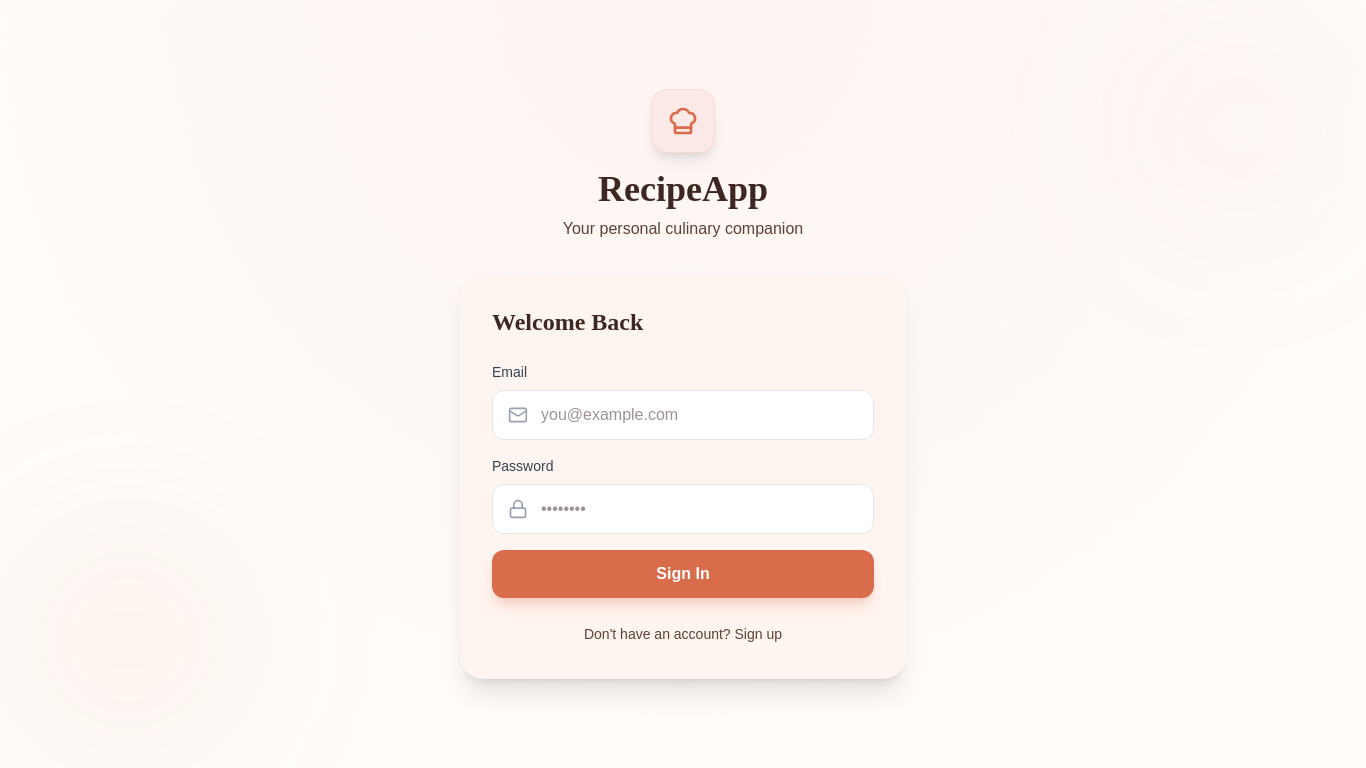
AuthForm › should toggle to sign up form
Click the button "Don't have an account? Sign up".
click(683, 634)  # box [584,624,782,644]
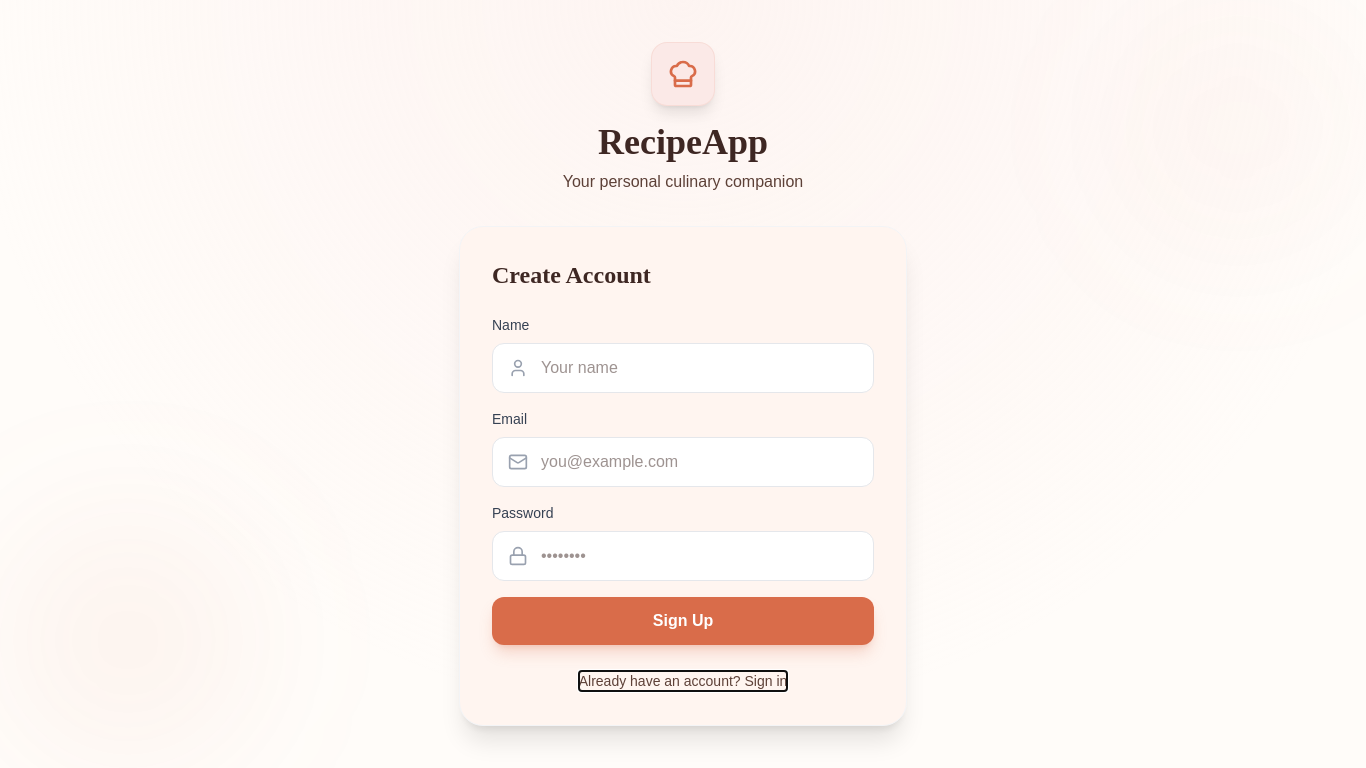
expect the heading "Create Account" is shown: met, box [492,262,651,288]
expect the field labelled "Name" is shown: met, box [492,343,874,393]
expect the button "Sign Up" is shown: met, box [492,597,874,645]
